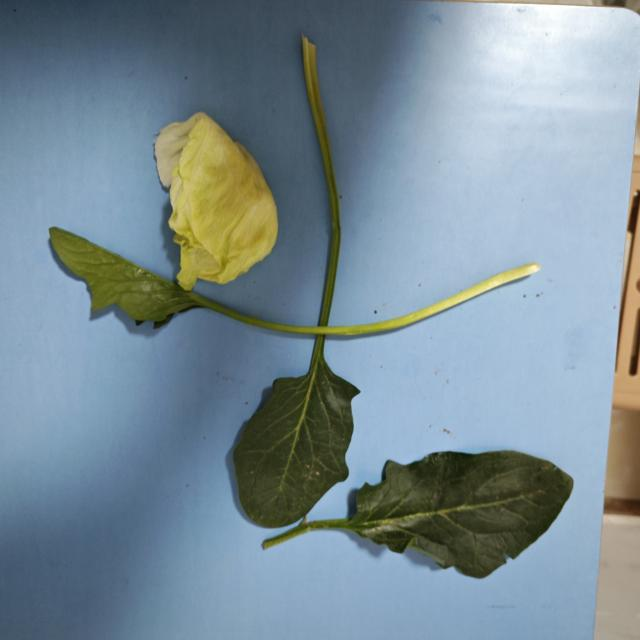-Kitchen waste - vegetable roots and leaves-: (234, 34, 360, 532), (46, 223, 548, 341), (269, 448, 569, 577), (146, 109, 282, 288)
